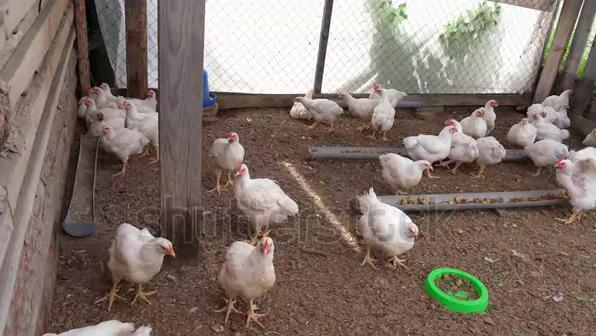Pollos: (350, 190, 419, 256), (108, 226, 179, 286), (219, 235, 278, 301), (233, 163, 288, 223), (376, 149, 434, 188), (552, 157, 596, 205), (295, 92, 341, 129), (405, 125, 459, 155), (101, 124, 142, 158), (464, 96, 500, 134), (213, 129, 246, 161), (539, 100, 571, 131), (373, 84, 393, 133), (341, 88, 366, 116), (509, 118, 532, 147)
